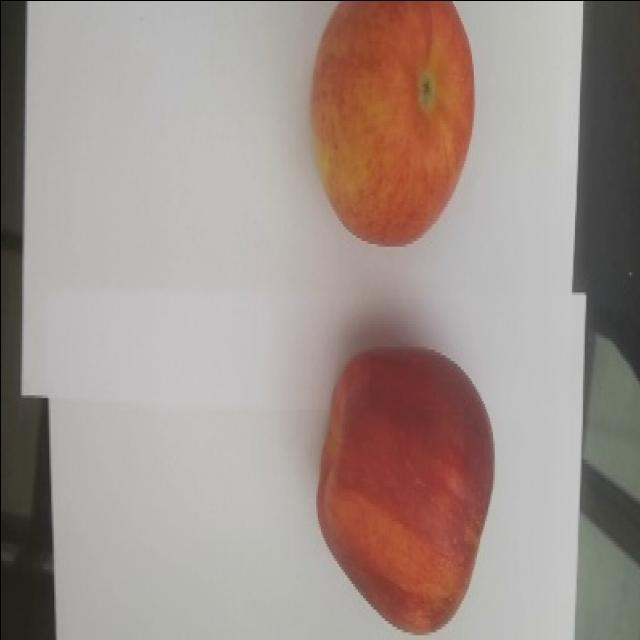Apple: (315, 344, 495, 634), (309, 0, 475, 246)
